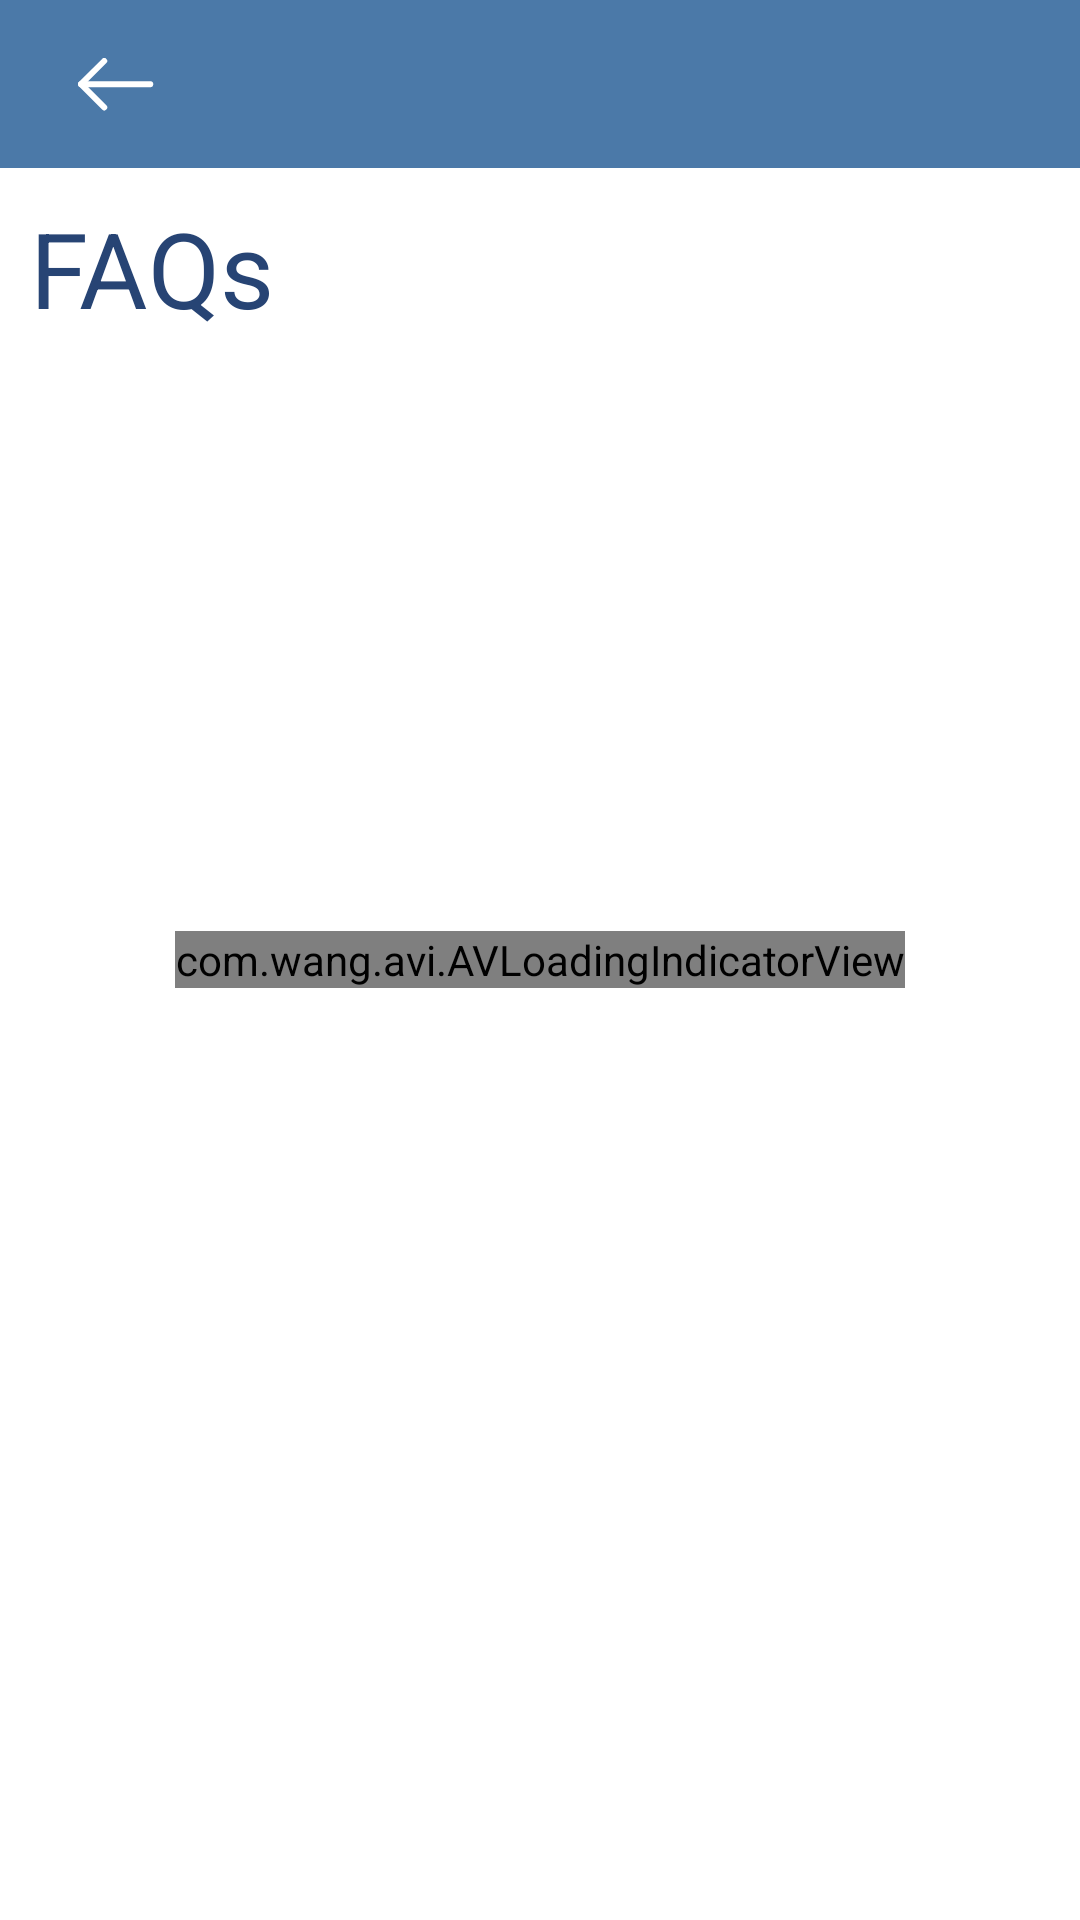

Icons on this 1080 x 1920 Android screen, each with its box as (x1, y1, x2, y2):
back: (78, 58, 154, 111)
